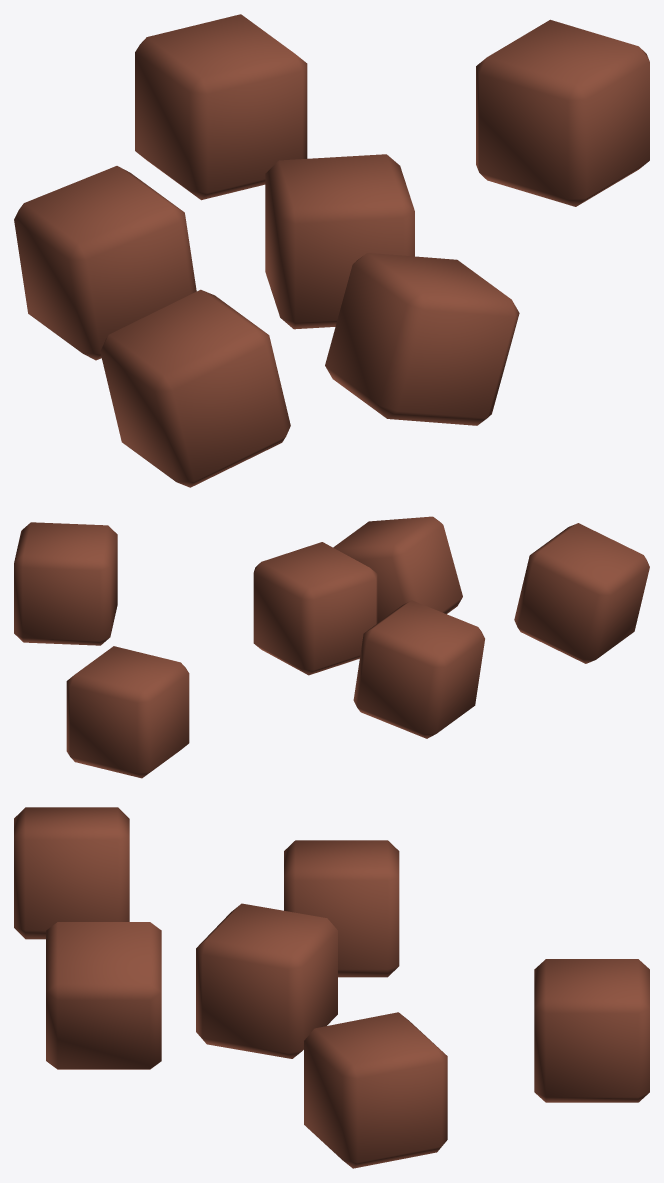
The model's file is steak_slice_cooked_.fbx.
3 renders of one model, top to bottom at view 1: azimuth 30°, elevation 25°; view 2: azimuth 150°, elevation 25°; view 3: azimuth 270°, elevation 25°, orthographic. The views are drawn at different scales.
Visible parts, largest first — view 1: steak_slice; view 2: steak_slice; view 3: steak_slice.
Boxes of the visible parts, x1,y1,x2,y2 form: steak_slice: (14,14,649,487); steak_slice: (14,516,649,778); steak_slice: (14,807,649,1168).
Bounding box in the file's own units: 58.38 × 13.83 × 55.03.
